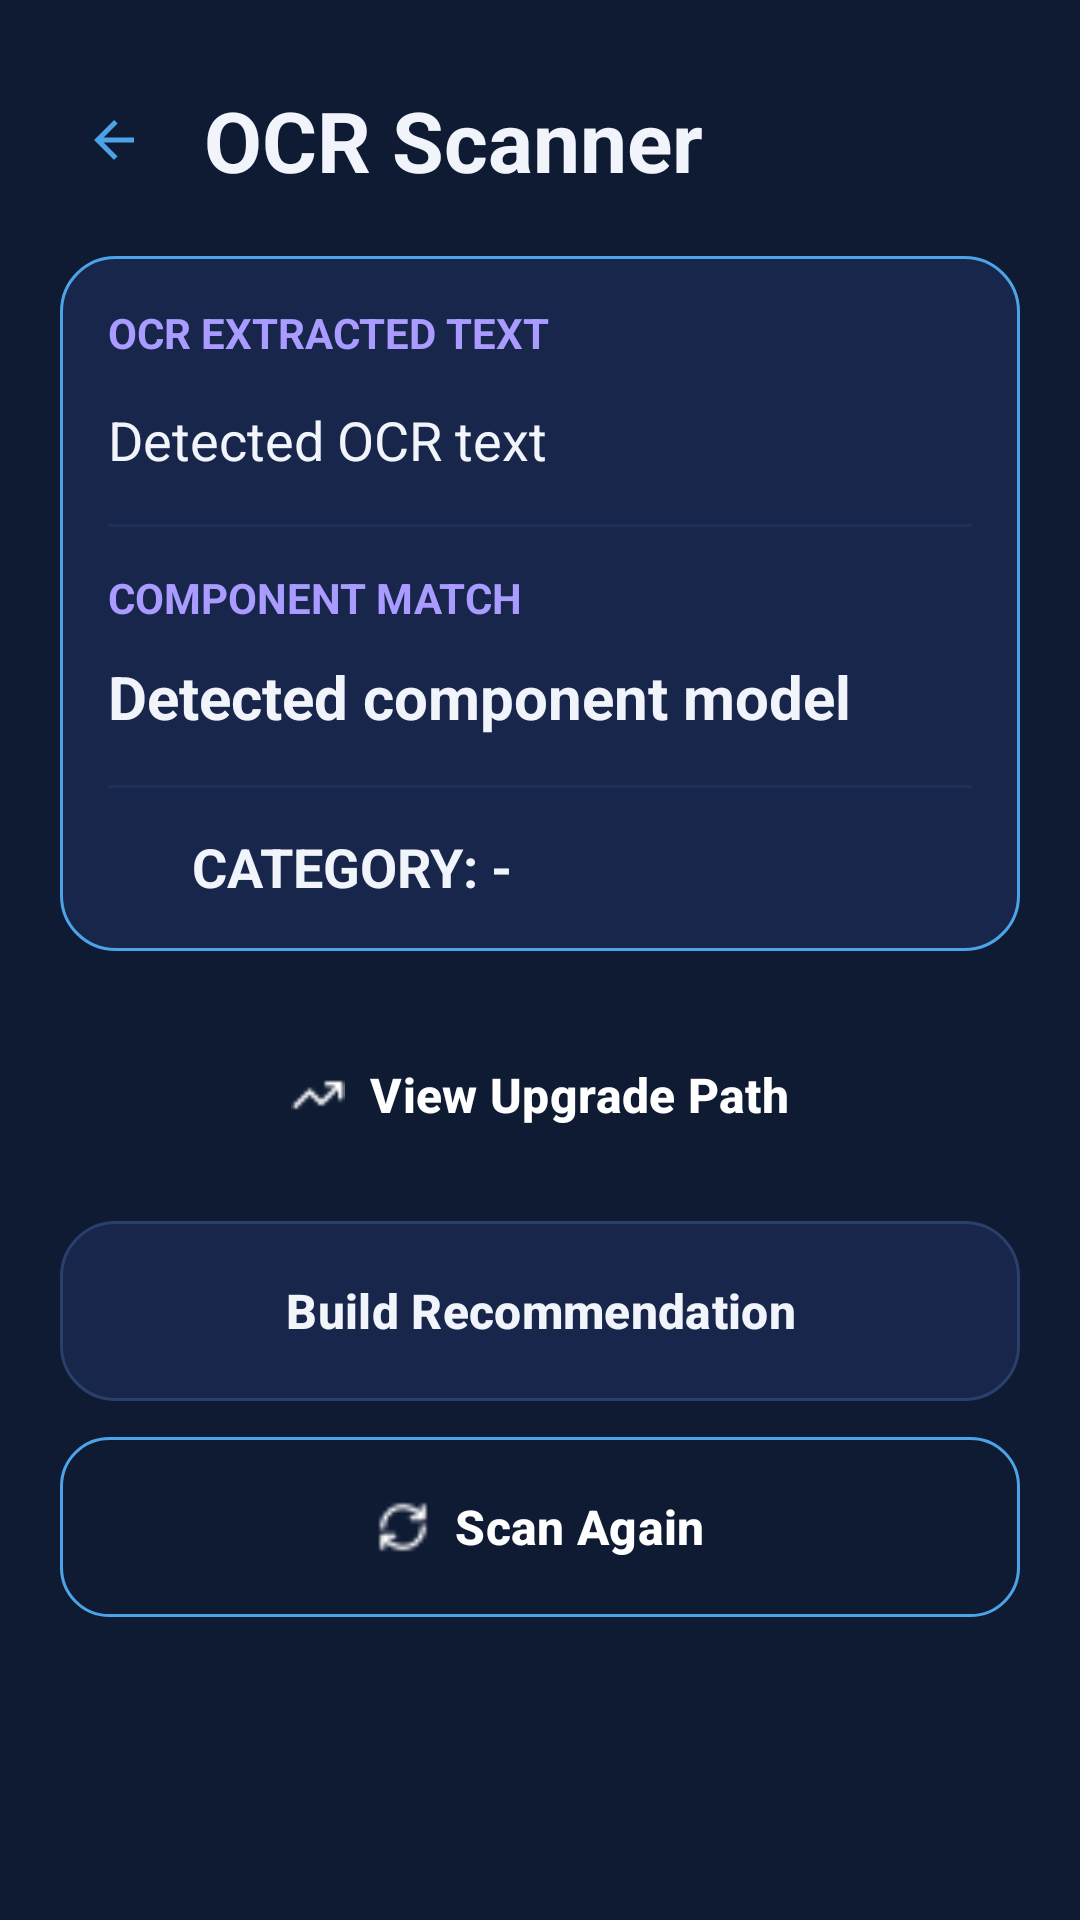

Where icons sit on this 1080w x 1920h app screen, as {"x1": x1, "y1": y1, "x2": x2, "y2": y2}:
arrow back: {"x1": 94, "y1": 120, "x2": 134, "y2": 160}
